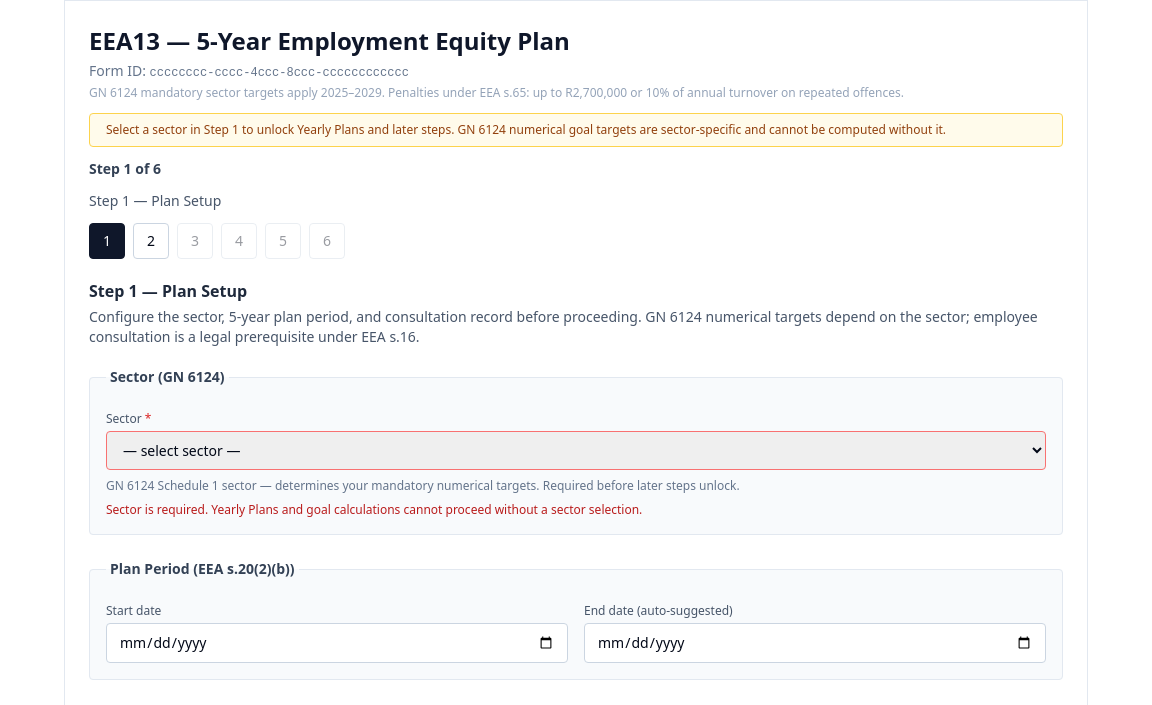
Scenario: EEA13Form — sector gate › step 3 nav button unlocks after selecting a sector
Select "Agriculture Forestry Fishing" in the dropdown with test id "eea13-sector-select". click: (576, 450)
box: [106, 431, 1046, 470]
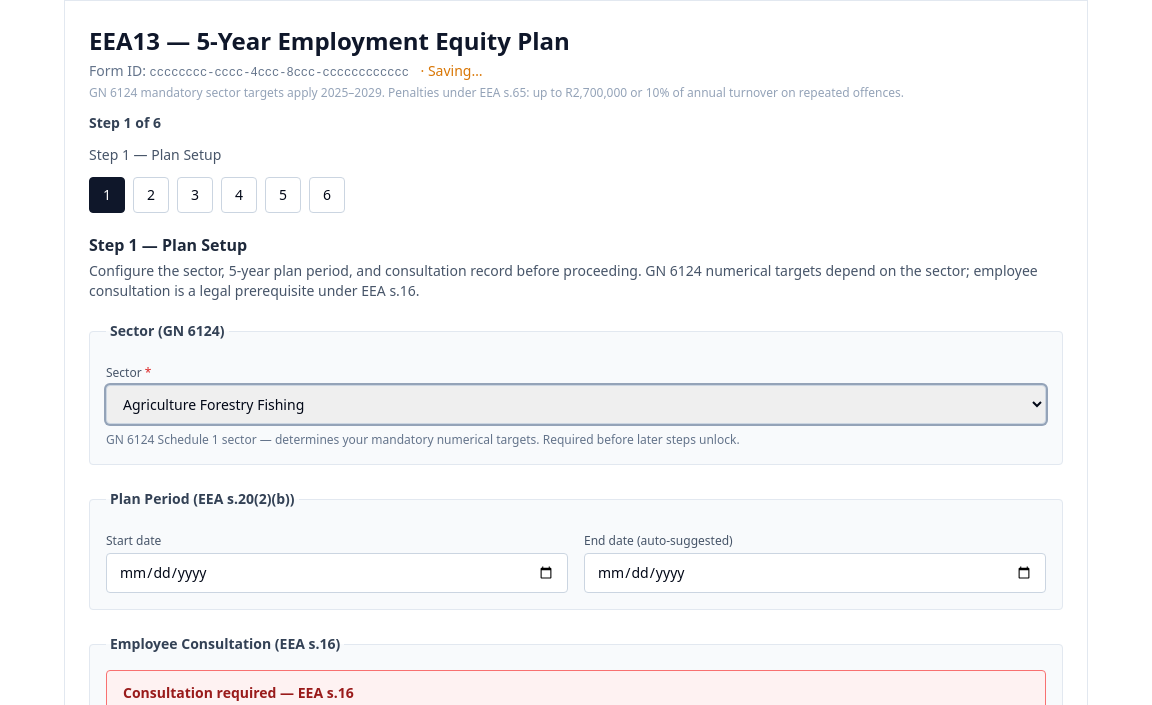
Now the button named "step 3" is enabled, box [177, 177, 213, 213]
